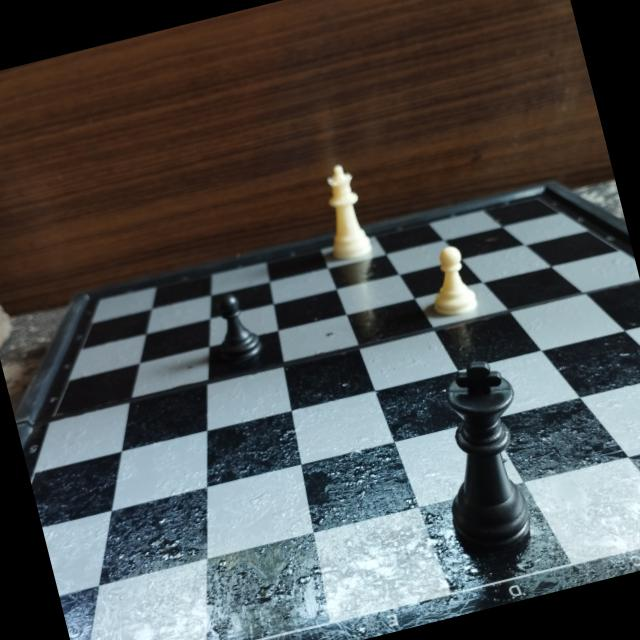Black King: (412, 345, 556, 566)
Black Pawn: (205, 280, 268, 368)
White Pawn: (416, 236, 486, 328)
White Queen: (308, 157, 382, 273)
